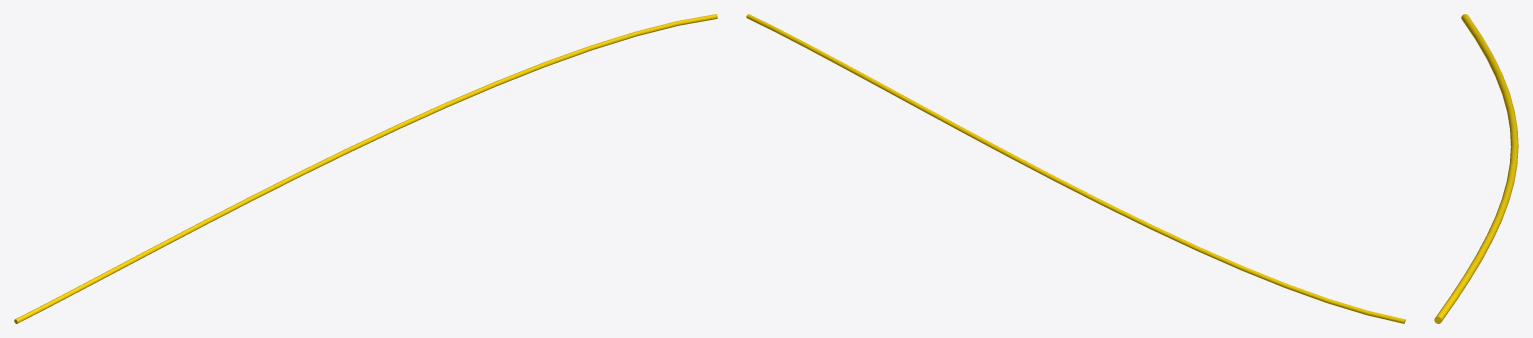
The model's file is Event_421115418_track_134.fbx.
3 views of the same model, side by side, from view 1: azimuth 30°, elevation 25°; view 2: azimuth 150°, elevation 25°; view 3: azimuth 270°, elevation 25° (orthographic). The views are drawn at different scales.
Visible parts, largest first — view 1: Model; view 2: Model; view 3: Model.
Boxes of the visible parts, bbox=[...] form: Model: bbox=[14, 14, 717, 323]; Model: bbox=[746, 14, 1405, 323]; Model: bbox=[1434, 14, 1518, 323].
Size of the model in its own units: 6.43 by 1.3 by 0.4363.
